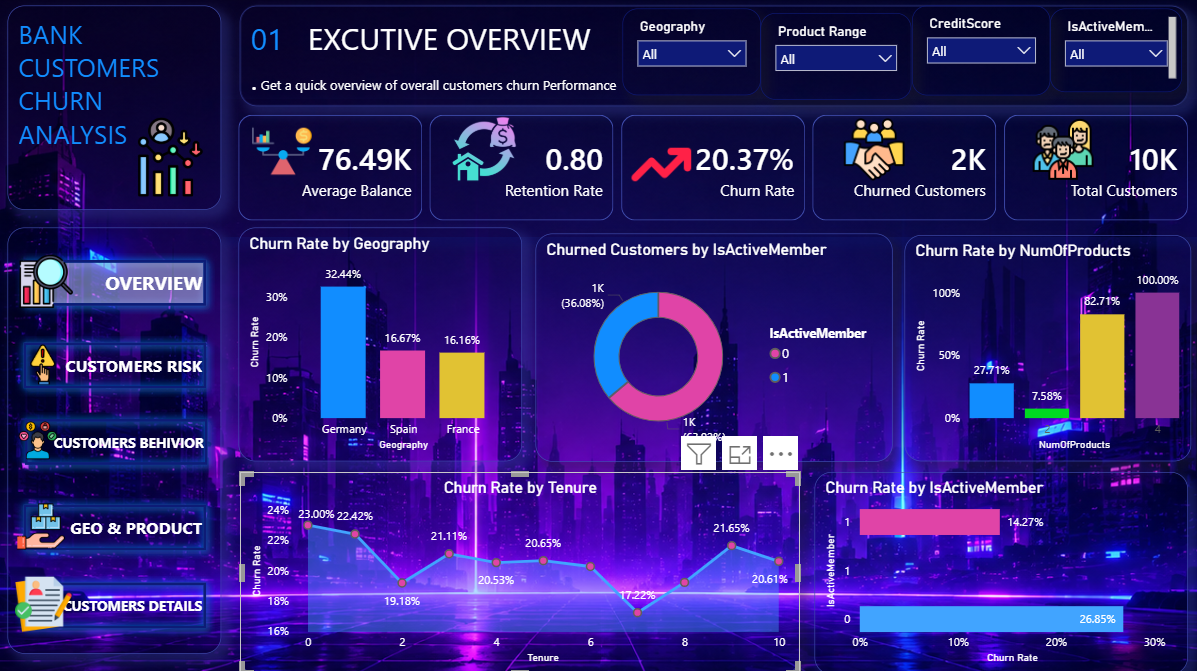

The dashboard page shown, as its layout file describes it:
{"tool":"powerbi","page":{"name":"OVERVIEW","canvas":[1280,720],"ordinal":0},"visuals":[{"type":"cardVisual","fields":{"Data":["Table.Average Balance","Table.Retention Rate","Table.Churn Rate","Table.Churned Customers","Table.Total Customers"]},"box":[238.3,110,1041.7,146.7],"z":0},{"type":"clusteredColumnChart","fields":{"Category":["bank_churn bank_customer_churn.Geography"],"Y":["Table.Churn Rate"]},"box":[256.1,246.5,300.6,248.1],"z":1000},{"type":"donutChart","fields":{"Y":["Table.Churned Customers"],"Category":["bank_churn bank_customer_churn.IsActiveMember"]},"box":[571,252.9,378.6,241.8],"z":2000},{"type":"columnChart","fields":{"Y":["Table.Churn Rate"],"Category":["bank_churn bank_customer_churn.NumOfProducts"]},"box":[962.3,254.5,303.8,240.2],"z":3000},{"type":"clusteredBarChart","fields":{"Category":["bank_churn bank_customer_churn.IsActiveMember"],"Y":["Table.Churn Rate"]},"box":[866.9,505.8,396.1,214.7],"z":4000},{"type":"lineChart","fields":{"Y":["Table.Churn Rate"],"Category":["bank_churn bank_customer_churn.Tenure"]},"box":[257.7,505.8,593.3,214.7],"z":5000},{"type":"textbox","box":[257.7,11.1,1005.3,106.6],"z":6000},{"type":"textbox","box":[11.7,246.7,226.7,451.7],"z":7000},{"type":"textbox","box":[11.7,11.7,226.7,216.7],"z":8000},{"type":"actionButton","box":[18.3,271.7,211.7,66.7],"z":9000},{"type":"actionButton","box":[18.3,360,211.7,66.7],"z":10000},{"type":"actionButton","box":[20,440,211.7,66.7],"z":11000},{"type":"actionButton","box":[18.3,531.7,211.7,66.7],"z":12000},{"type":"actionButton","box":[18.3,613.3,211.7,66.7],"z":13000},{"type":"image","box":[136.8,128.8,93.8,85.9],"z":14000},{"type":"image","box":[20,531.7,51.7,63.3],"z":15000},{"type":"image","box":[28.3,360,43.3,63.3],"z":16000},{"type":"image","box":[20,440,45,63.3],"z":17000},{"type":"image","box":[23.3,271.7,56.7,63.3],"z":18000},{"type":"image","box":[18.3,613.3,60,63.3],"z":19000},{"type":"slicer","fields":{"Values":["bank_churn bank_customer_churn.Geography"]},"box":[663.3,15,146.7,91.7],"z":20000},{"type":"slicer","fields":{"Values":["bank_churn bank_customer_churn.Product Range"]},"box":[810,18.3,160,91.7],"z":21000},{"type":"slicer","fields":{"Values":["bank_churn bank_customer_churn.CreditScore"]},"box":[970,11.7,146.7,95],"z":22000},{"type":"image","box":[270,130,63.3,70],"z":23000},{"type":"image","box":[875,130,110,66.7],"z":24000},{"type":"image","box":[475,128.3,81.7,68.3],"z":25000},{"type":"image","box":[1083.3,130,95,66.7],"z":26000},{"type":"image","box":[673.3,145,63.3,70],"z":27000},{"type":"slicer","fields":{"Values":["bank_churn bank_customer_churn.IsActiveMember"]},"box":[1116.7,15,140,88.3],"z":28000}]}

Visuals, with their boxes in screenshot pixels (x1, y1, x2, y2), scaled from the page's 1280x720 canvas onto the 1197x671 screenshot:
cardVisual - Table.Average Balance x Table.Retention Rate: [223,103,1196,239]
clusteredColumnChart - bank_churn bank_customer_churn.Geography x Table.Churn Rate: [239,230,521,461]
donutChart - Table.Churned Customers x bank_churn bank_customer_churn.IsActiveMember: [534,236,888,461]
columnChart - Table.Churn Rate x bank_churn bank_customer_churn.NumOfProducts: [900,237,1184,461]
clusteredBarChart - bank_churn bank_customer_churn.IsActiveMember x Table.Churn Rate: [811,471,1181,670]
lineChart - Table.Churn Rate x bank_churn bank_customer_churn.Tenure: [241,471,796,670]
textbox: [241,10,1181,110]
textbox: [11,230,223,651]
textbox: [11,11,223,213]
actionButton: [17,253,215,315]
actionButton: [17,336,215,398]
actionButton: [19,410,217,472]
actionButton: [17,496,215,558]
actionButton: [17,572,215,634]
image: [128,120,216,200]
image: [19,496,67,555]
image: [26,336,67,394]
image: [19,410,61,469]
image: [22,253,75,312]
image: [17,572,73,631]
slicer - bank_churn bank_customer_churn.Geography: [620,14,757,99]
slicer - bank_churn bank_customer_churn.Product Range: [757,17,907,103]
slicer - bank_churn bank_customer_churn.CreditScore: [907,11,1044,99]
image: [252,121,312,186]
image: [818,121,921,183]
image: [444,120,521,183]
image: [1013,121,1102,183]
image: [630,135,689,200]
slicer - bank_churn bank_customer_churn.IsActiveMember: [1044,14,1175,96]
